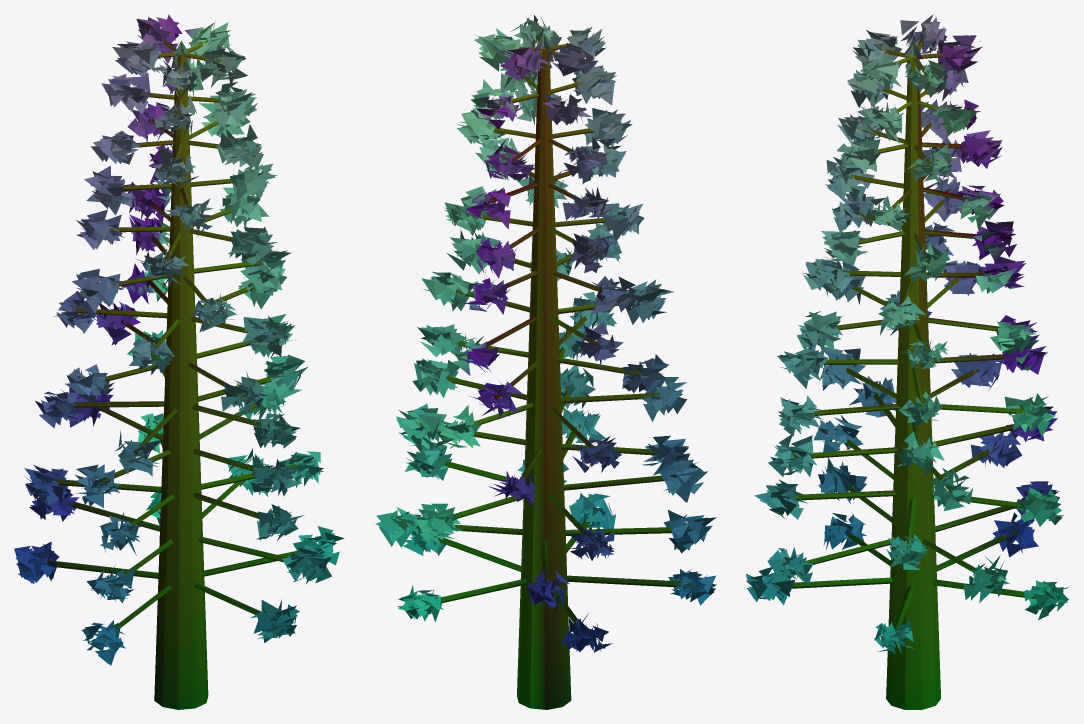
File: ecological_conifer_old_01.glb
3 renders of one model, left to right at view 1: azimuth 30°, elevation 25°; view 2: azimuth 150°, elevation 25°; view 3: azimuth 270°, elevation 25°, orthographic.
Visible parts, largest first — view 1: ecological_conifer_old_01; view 2: ecological_conifer_old_01; view 3: ecological_conifer_old_01.
Boxes of the visible parts, bbox=[...] form: ecological_conifer_old_01: bbox=[14, 14, 344, 709]; ecological_conifer_old_01: bbox=[374, 15, 716, 709]; ecological_conifer_old_01: bbox=[746, 14, 1068, 709].
Size of the model in its own units: 14.54 by 32.89 by 14.63.
